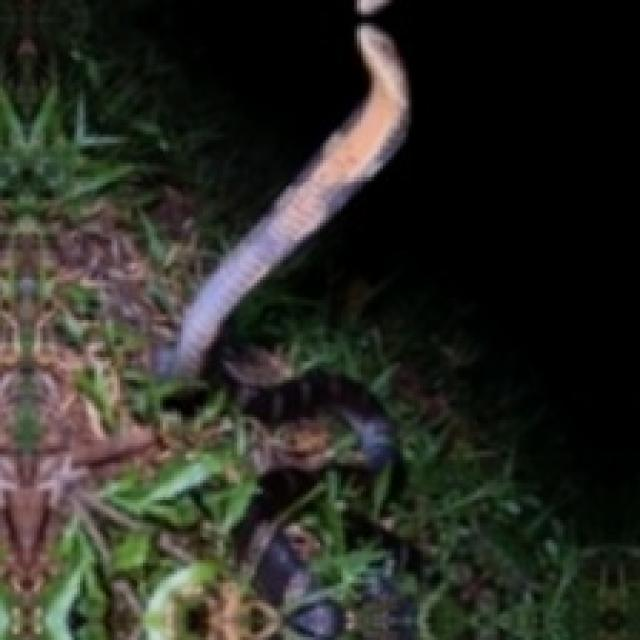king cobra: (157, 23, 406, 374)
